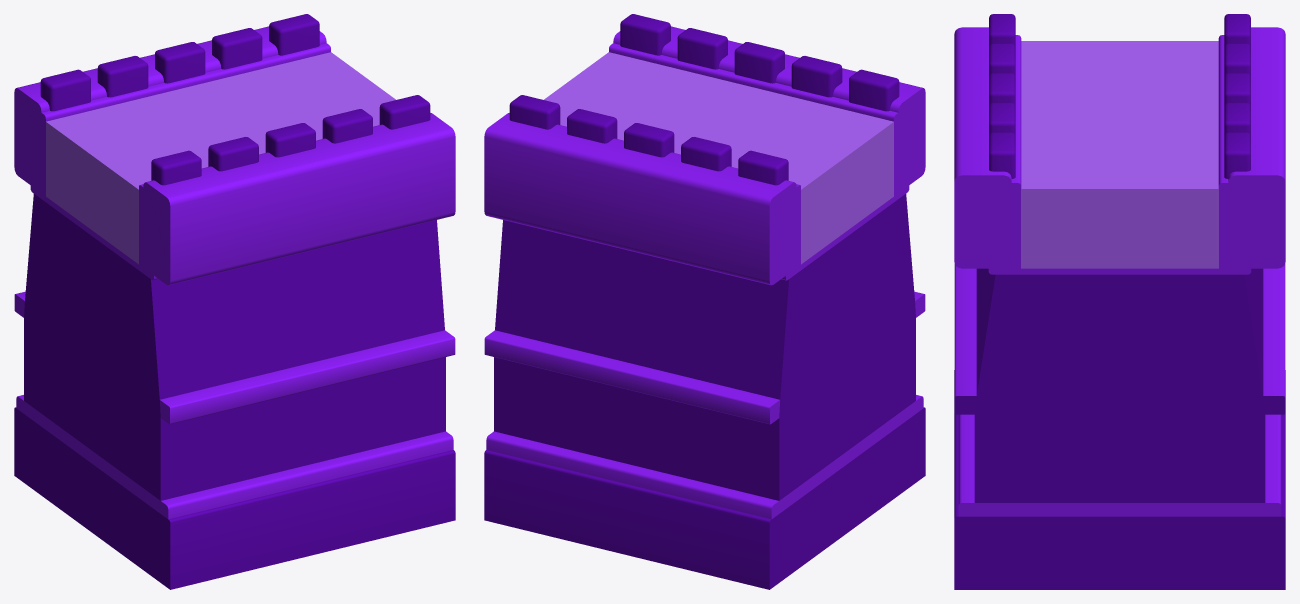
File: mega wall straight (regular height).fbx
3 views of the same model, side by side, from view 1: azimuth 30°, elevation 25°; view 2: azimuth 150°, elevation 25°; view 3: azimuth 270°, elevation 25° (orthographic). The views are drawn at different scales.
Visible parts, largest first — view 1: Plane.060; view 2: Plane.060; view 3: Plane.060.
Boxes of the visible parts, x1,y1,x2,y2 form: Plane.060: (14, 14, 455, 589); Plane.060: (484, 14, 925, 589); Plane.060: (954, 14, 1285, 589).
Bounding box in the file's own units: 100 × 137 × 94.69.
1 material, 1 textured.
